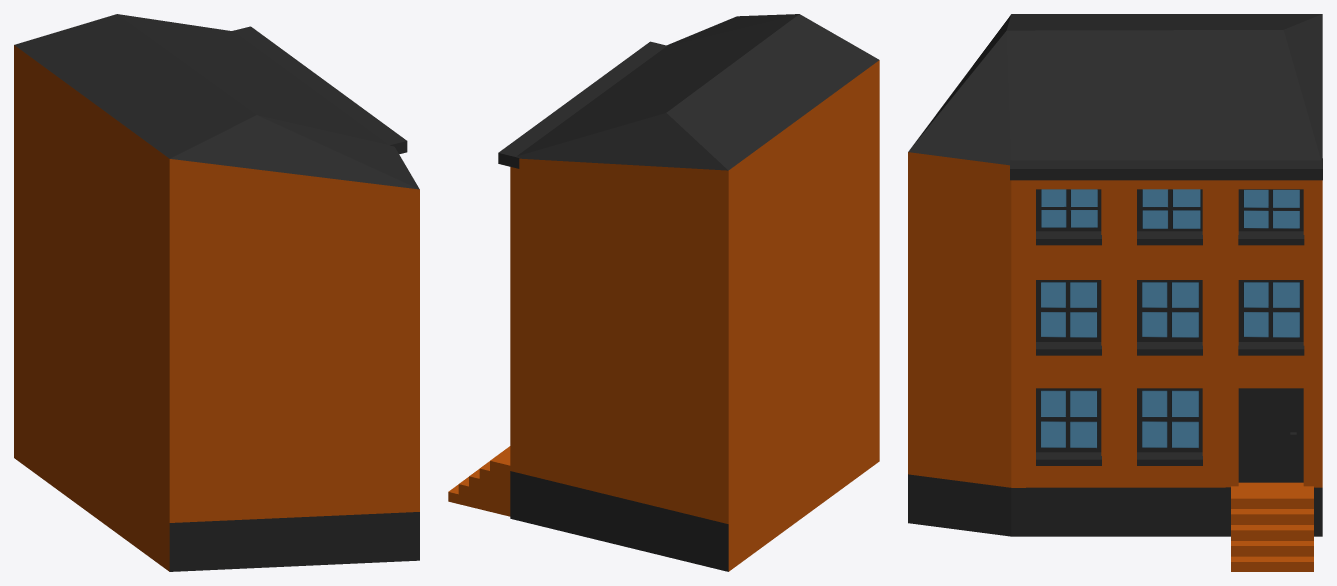
The model's file is NormalReworkedOrange.obj.
The picture shows the model from 3 angles, left to right: view 1: azimuth 30°, elevation 25°; view 2: azimuth 150°, elevation 25°; view 3: azimuth 270°, elevation 25°; orthographic projection. The views are drawn at different scales.
Parts seen in each view (by area): view 1: ZwyklyZwyklyPrzerobionyPomaranczowy; view 2: ZwyklyZwyklyPrzerobionyPomaranczowy; view 3: ZwyklyZwyklyPrzerobionyPomaranczowy.
Boxes of the visible parts, <box> form: ZwyklyZwyklyPrzerobionyPomaranczowy: <box>14,14,419,571</box>; ZwyklyZwyklyPrzerobionyPomaranczowy: <box>448,14,879,571</box>; ZwyklyZwyklyPrzerobionyPomaranczowy: <box>908,14,1322,571</box>.
Bounding box in the file's own units: 6.52 × 9.37 × 8.
